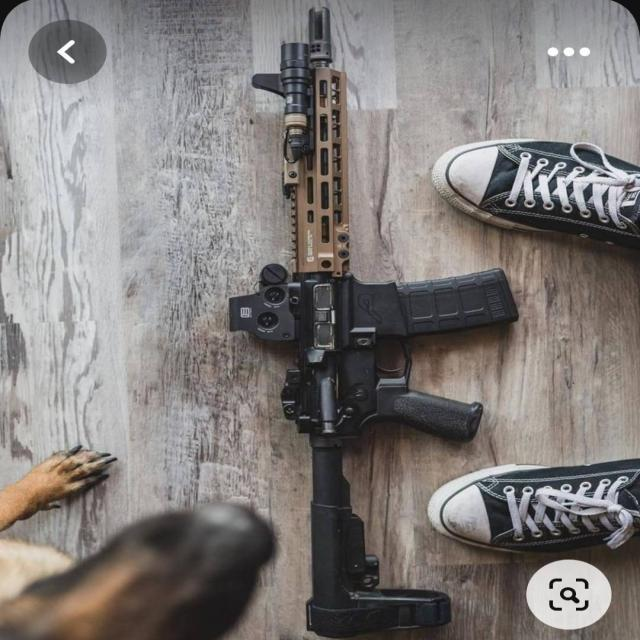m16: (166, 149, 520, 452)
